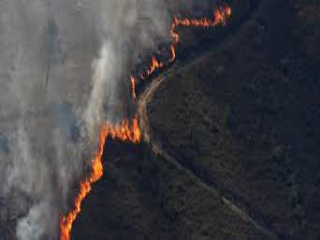fire: (53, 113, 150, 234), (123, 11, 265, 90)
smoke: (75, 8, 134, 118)
